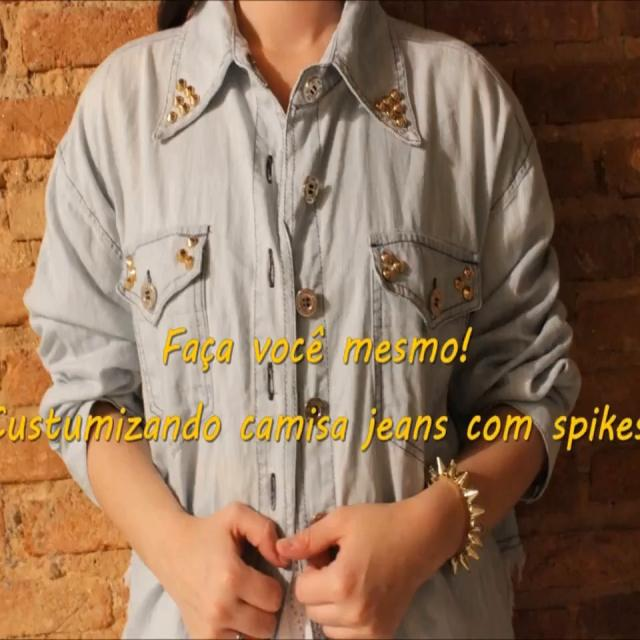Shirt: (22, 0, 584, 640)
